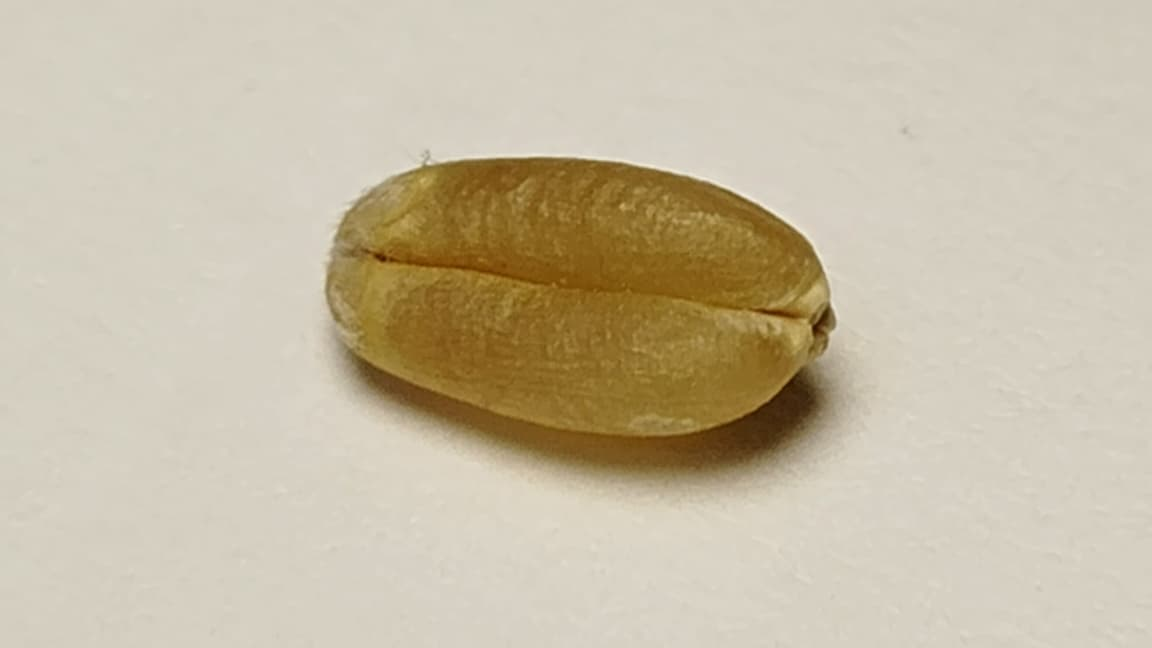healthy: (327, 158, 833, 433)
